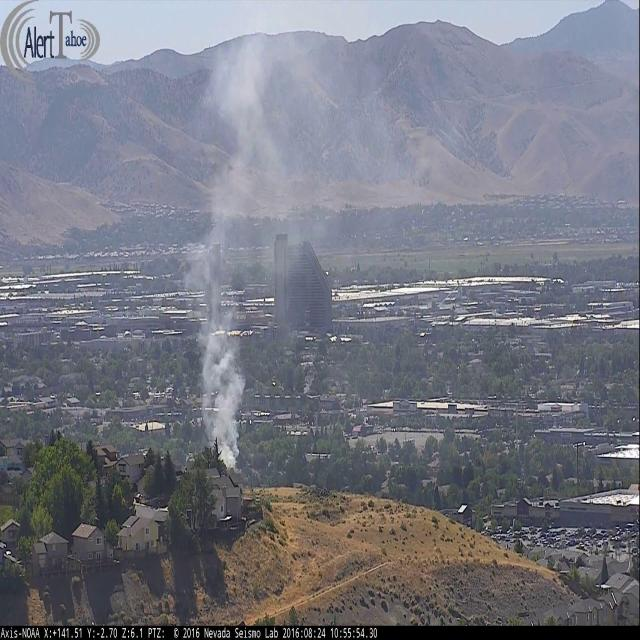smoke: (196, 23, 309, 484)
